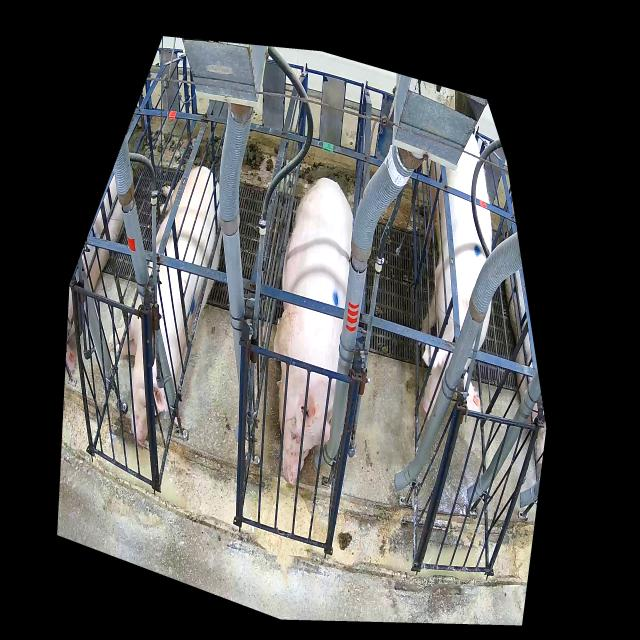pig: (108, 166, 222, 446), (273, 177, 354, 485), (418, 133, 492, 418)
